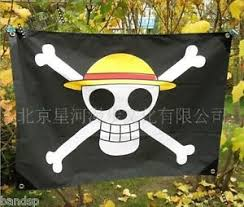Jolly Roger Flag: (3, 22, 235, 186)
